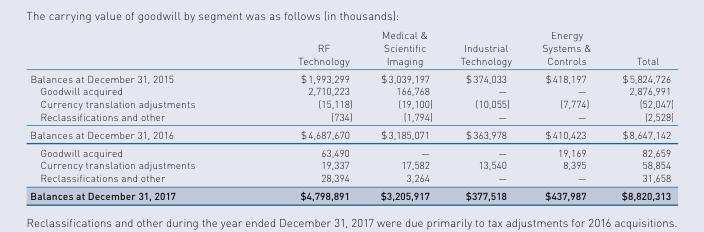table: (29, 28, 673, 201)
table column: (29, 28, 245, 201), (245, 28, 365, 201), (445, 28, 526, 201), (365, 28, 445, 201), (526, 28, 605, 201), (605, 28, 673, 201)
table column header: (29, 28, 673, 68)
table row: (29, 28, 673, 68), (29, 124, 673, 142), (29, 68, 673, 84), (29, 142, 673, 158), (29, 109, 673, 124), (29, 171, 673, 186), (29, 186, 673, 201), (29, 96, 673, 109), (29, 158, 673, 171), (29, 84, 673, 96)
